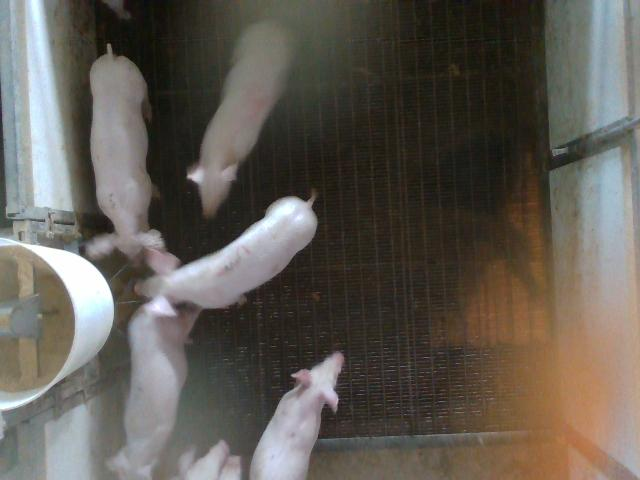pig-3: (136, 196, 318, 309)
pig-4: (188, 21, 294, 217)
